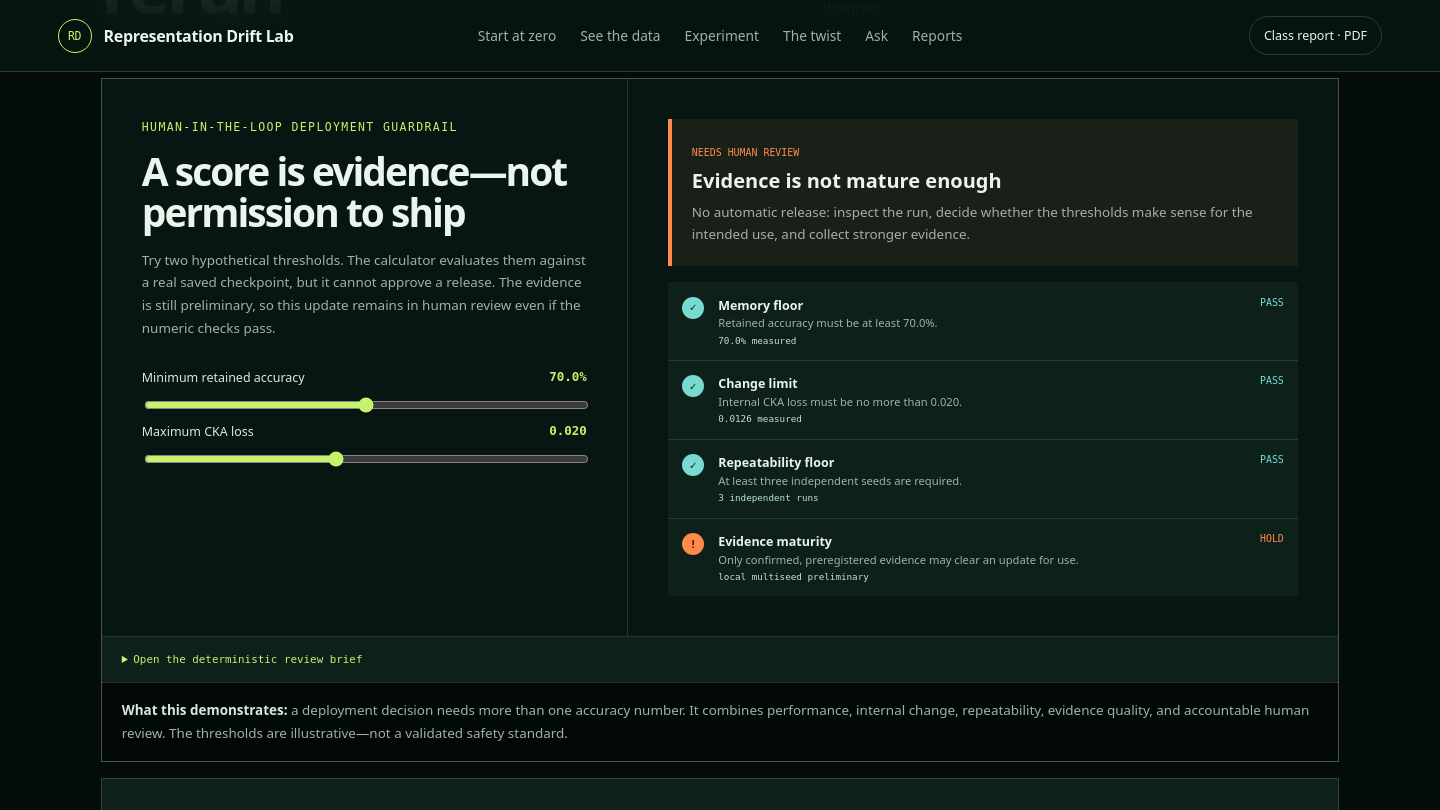
Test: portfolio visitor flow › keeps preliminary evidence behind a human release review gate
(page scrolled)
expect the heading "A score is evidence—not permission to ship" is shown: met, box [142,151,587,233]
expect the text "Needs human review" is shown: met, box [692,147,799,158]
Set the slider labelled "Minimum retained accuracy 70.0%" to "0.72" at (409, 405), box [144,397,589,413]
(page scrolled)
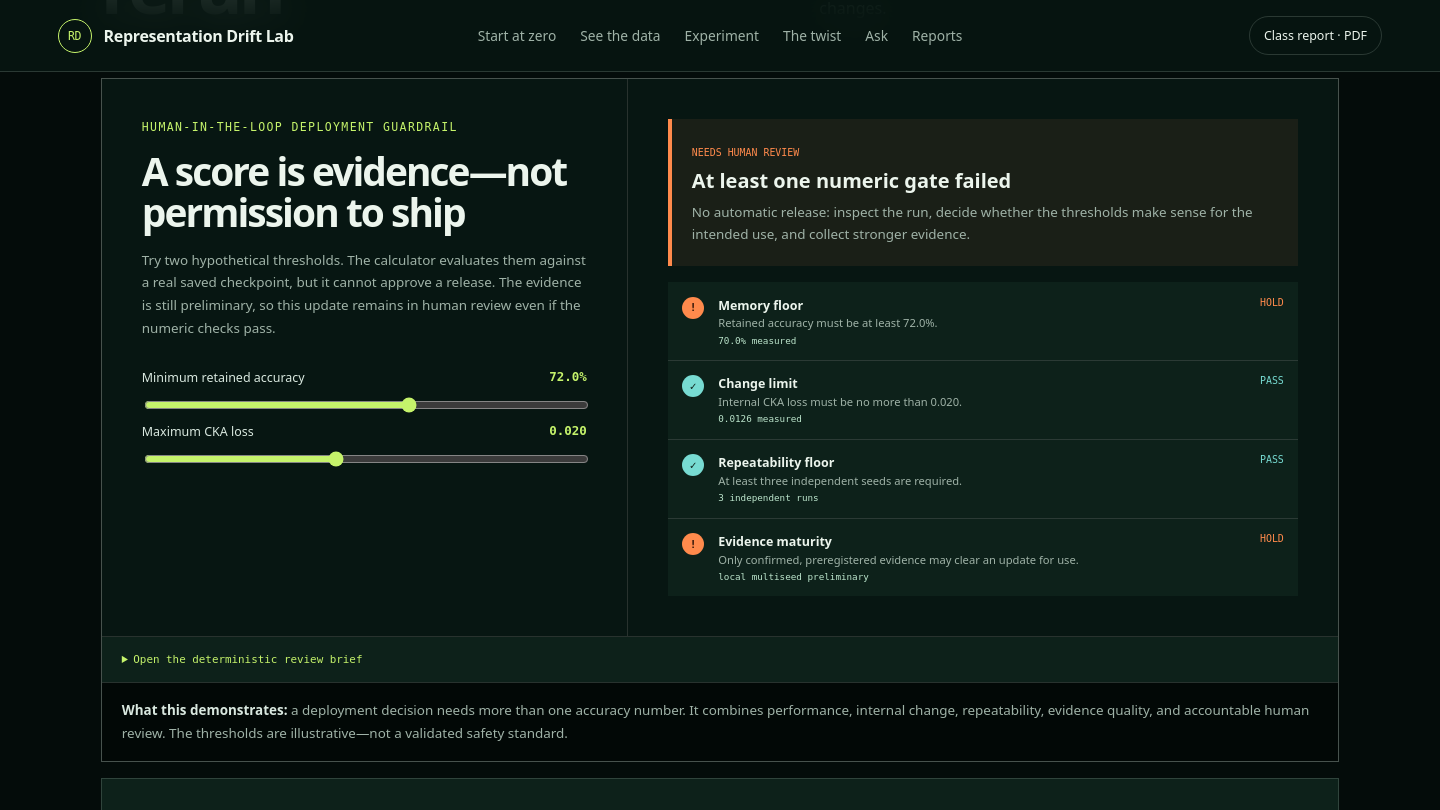
expect the text "thresholds are illustrative—not a validated safety standard" is shown: met, box [122,702,1309,743]
expect the text "At least one numeric gate failed" is shown: met, box [692,168,1011,195]
